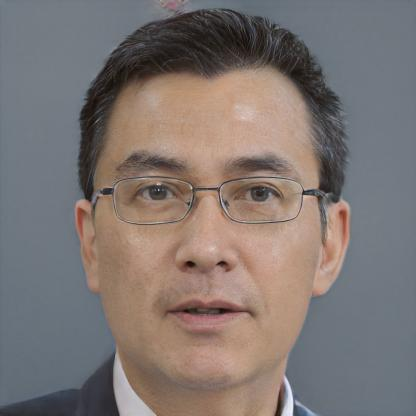glasses: (105, 170, 316, 228)
